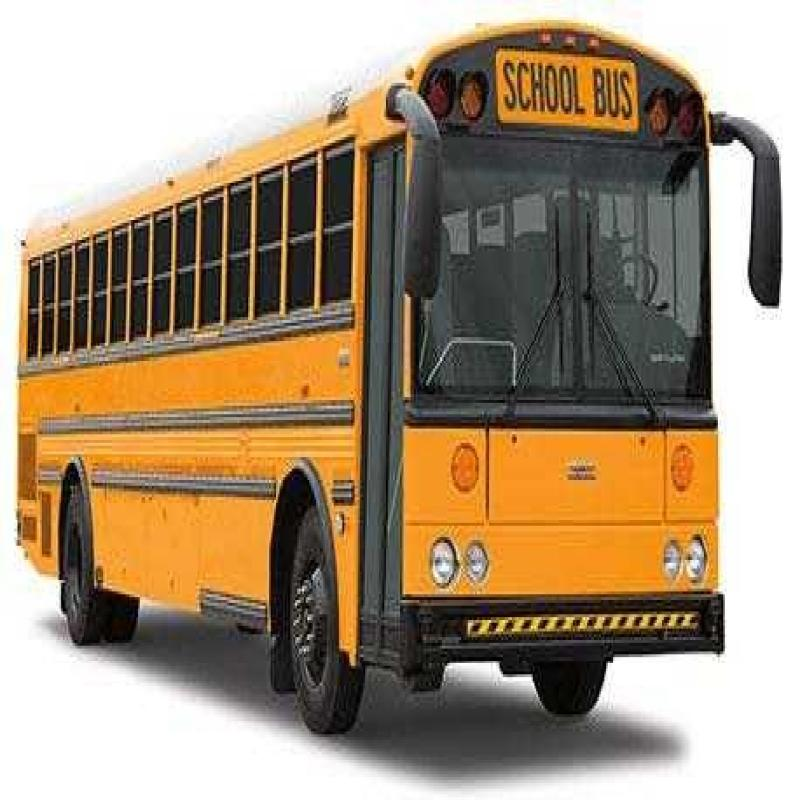bus: (8, 18, 781, 763)
